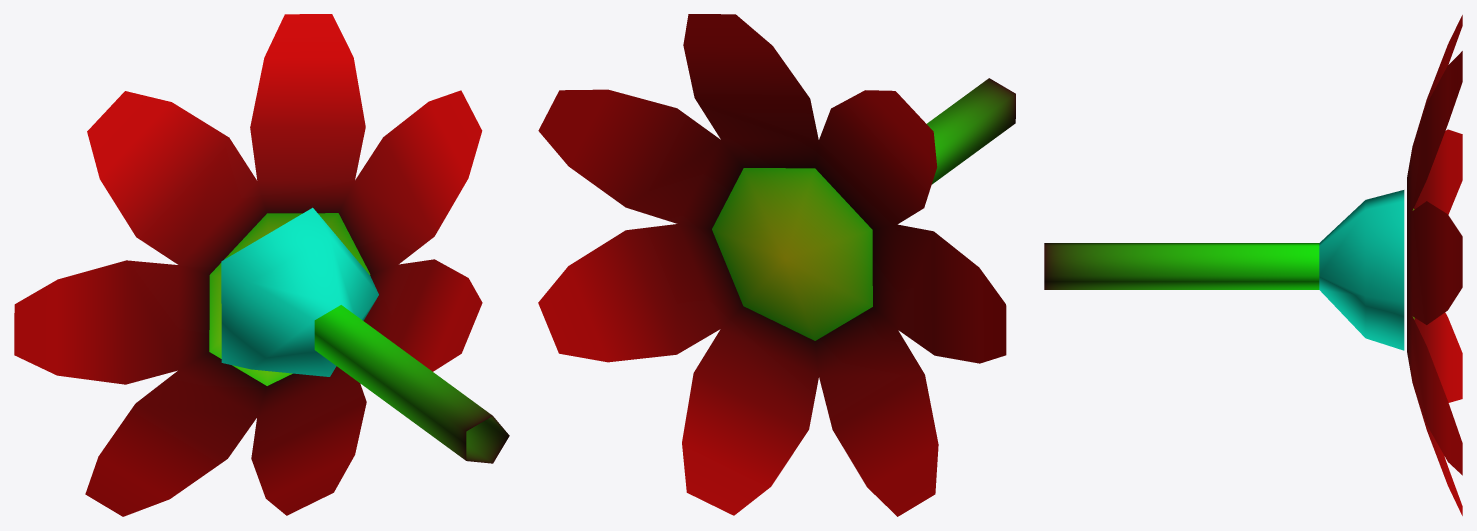
Rendered from Flower4_NoBS.fbx.
The picture shows the model from 3 angles, left to right: view 1: azimuth 30°, elevation 25°; view 2: azimuth 150°, elevation 25°; view 3: azimuth 270°, elevation 25°; orthographic projection. The views are drawn at different scales.
Visible parts, largest first — view 1: FlowerNoBS; view 2: FlowerNoBS; view 3: FlowerNoBS.
Boxes of the visible parts, left/top/right/bottom form: FlowerNoBS: left=14, top=14, right=509, bottom=516; FlowerNoBS: left=538, top=14, right=1015, bottom=516; FlowerNoBS: left=1044, top=15, right=1462, bottom=515.
Size of the model in its own units: 0.9984 by 1.02 by 0.8519.
